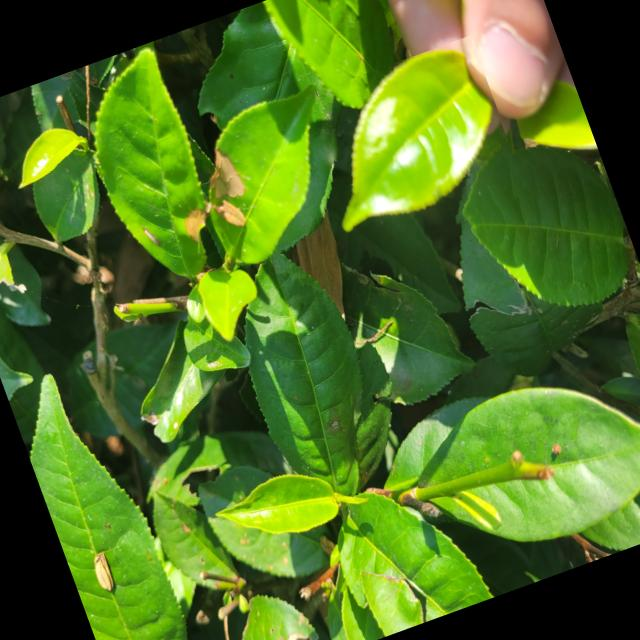Catagory A(1-2 days): (285, 34, 533, 272)
